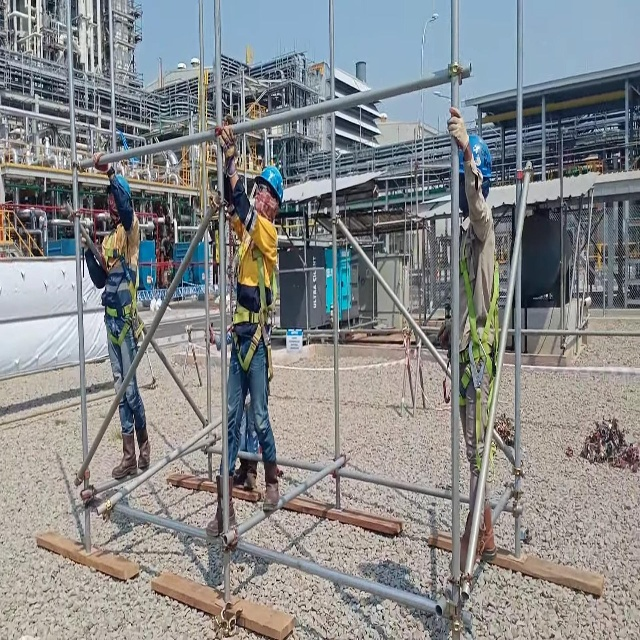Arnes_seguridad: (460, 222, 499, 472), (230, 234, 277, 383), (100, 223, 140, 351)
